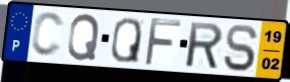C: (29, 10, 67, 59)
F: (142, 16, 183, 68)
Q: (65, 12, 101, 62), (109, 16, 143, 65)
R: (185, 20, 225, 71)
S: (221, 23, 260, 73)
